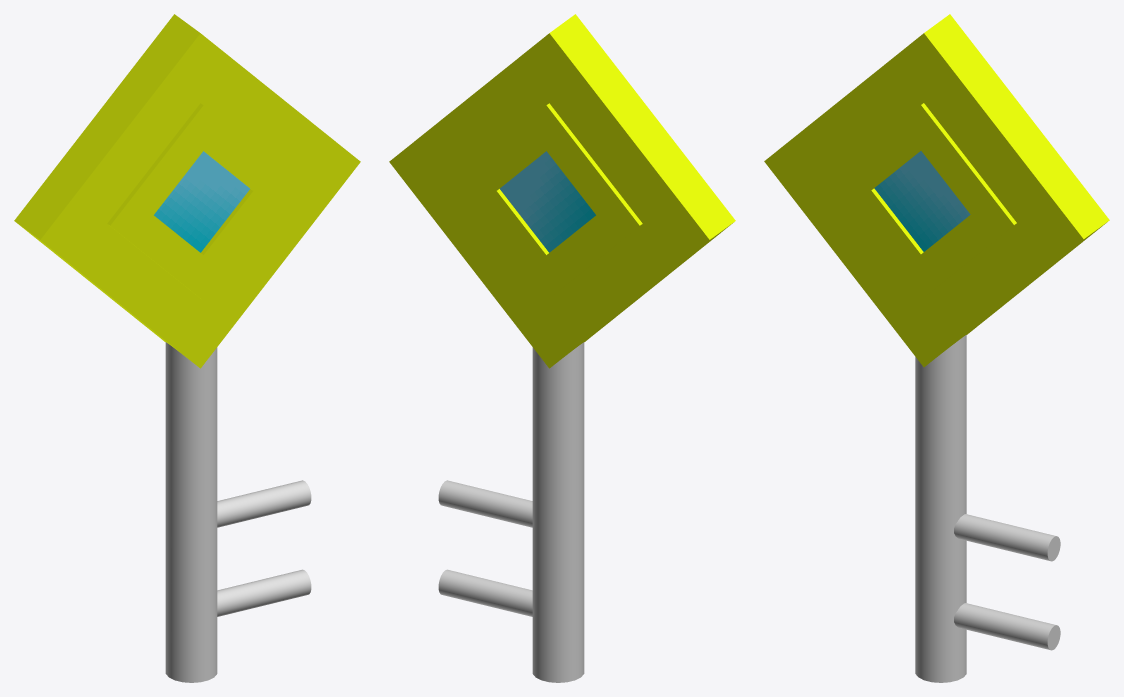
The model's file is Key1.fbx.
The picture shows the model from 3 angles, left to right: view 1: azimuth 30°, elevation 25°; view 2: azimuth 150°, elevation 25°; view 3: azimuth 330°, elevation 25°; orthographic projection.
Parts seen in each view (by area): view 1: Box001, Cylinder001, Cylinder002, Cylinder003; view 2: Box001, Cylinder001, Cylinder002, Cylinder003; view 3: Box001, Cylinder001, Cylinder003, Cylinder002.
Boxes of the visible parts, bbox=[...] form: Box001: bbox=[14, 14, 360, 368]; Cylinder001: bbox=[165, 342, 217, 682]; Cylinder002: bbox=[217, 480, 311, 527]; Cylinder003: bbox=[217, 569, 311, 616]; Box001: bbox=[389, 14, 735, 368]; Cylinder001: bbox=[532, 342, 584, 682]; Cylinder002: bbox=[438, 480, 532, 527]; Cylinder003: bbox=[438, 569, 532, 616]; Box001: bbox=[764, 14, 1109, 367]; Cylinder001: bbox=[915, 335, 966, 682]; Cylinder003: bbox=[954, 603, 1060, 650]; Cylinder002: bbox=[954, 514, 1060, 561].
Bounding box in the file's own units: 14.14 × 2.45 × 27.37.
3 materials, 3 textured.
